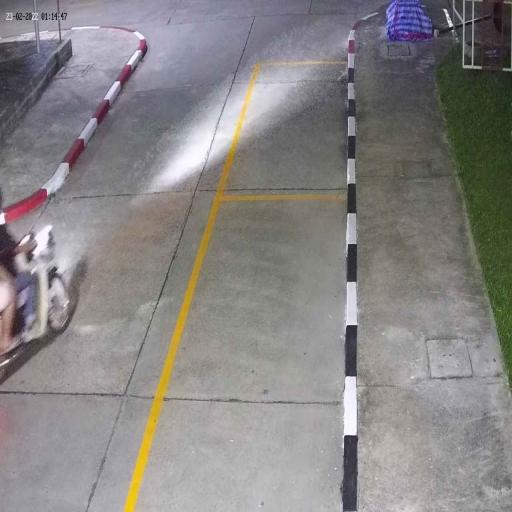motorcycle: (18, 226, 72, 358)
